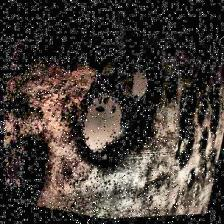pothole: (66, 82, 140, 166), (4, 128, 58, 208), (28, 12, 84, 60), (182, 35, 222, 96), (100, 8, 140, 60), (75, 5, 111, 58), (122, 60, 158, 108), (169, 128, 200, 172), (173, 88, 201, 130), (160, 66, 184, 104), (192, 93, 214, 129), (204, 104, 224, 134), (194, 130, 212, 156), (206, 84, 223, 107), (182, 172, 196, 192), (196, 162, 208, 184)
